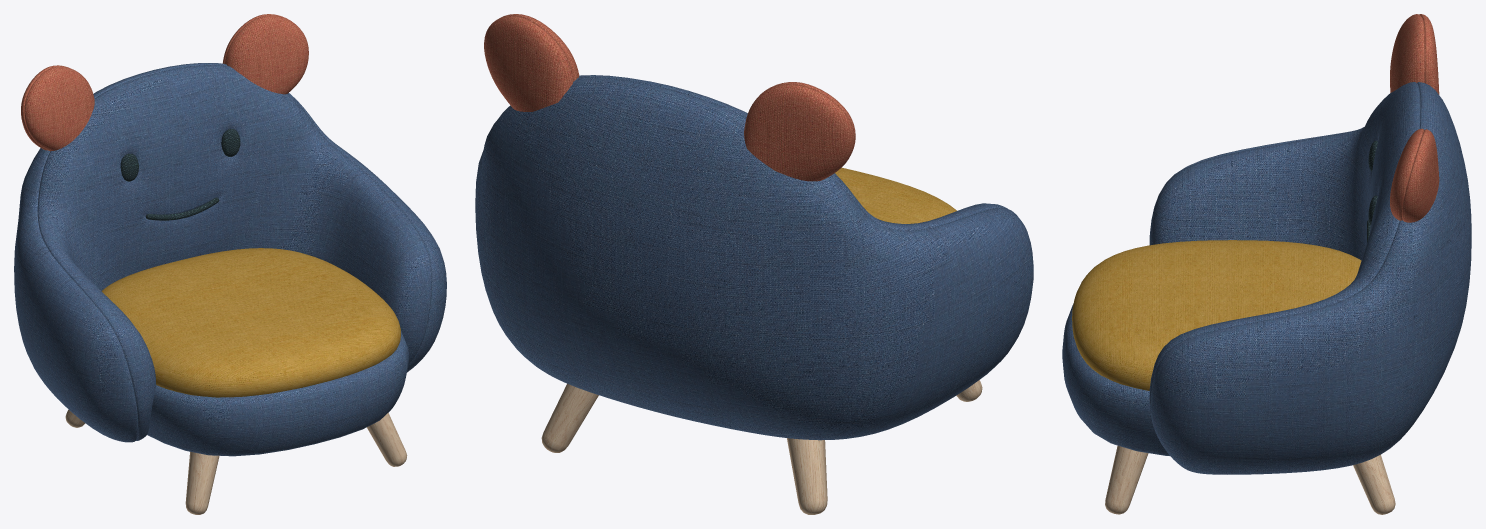
The model's file is kids-armchair.glb.
3 views of the same model, side by side, from view 1: azimuth 30°, elevation 25°; view 2: azimuth 150°, elevation 25°; view 3: azimuth 270°, elevation 25° (orthographic). The views are drawn at different scales.
Visible parts, largest first — view 1: Box014_FA_005_0 (×2), Box014_FA_014_0, Box014_FA_004_0, Line002_Ash_0, Box014_FA_012_0; view 2: Box014_FA_005_0, Box014_FA_004_0, Line002_Ash_0, Box014_FA_014_0; view 3: Box014_FA_005_0 (×2), Box014_FA_014_0, Box014_FA_004_0, Line002_Ash_0.
Part boxes in pixels (box(x1,y1,x2,y2)): Box014_FA_005_0 (×2): box(14, 63, 446, 456); Box014_FA_014_0: box(101, 248, 400, 397); Box014_FA_004_0: box(21, 14, 308, 151); Line002_Ash_0: box(65, 409, 407, 514); Box014_FA_012_0: box(120, 129, 240, 220); Box014_FA_005_0: box(475, 75, 1033, 440); Box014_FA_004_0: box(484, 14, 855, 181); Line002_Ash_0: box(541, 380, 982, 514); Box014_FA_014_0: box(835, 167, 956, 223); Box014_FA_005_0 (×2): box(1062, 82, 1471, 474); Box014_FA_014_0: box(1072, 240, 1361, 390); Box014_FA_004_0: box(1390, 14, 1439, 222); Line002_Ash_0: box(1105, 445, 1395, 514).
Bounding box in the file's own units: 0.7155 × 0.6396 × 0.6167.
Materials: 6 (6 with a texture image).
